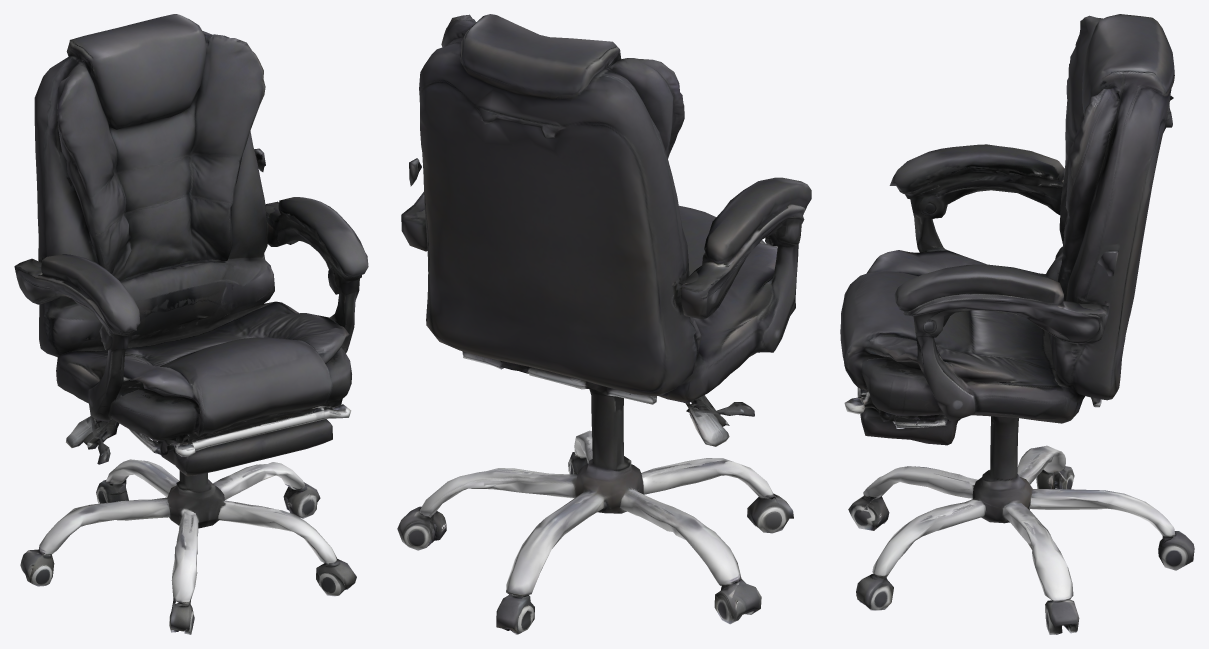
3 renders of one model, left to right at view 1: azimuth 30°, elevation 25°; view 2: azimuth 150°, elevation 25°; view 3: azimuth 270°, elevation 25°, orthographic. The views are drawn at different scales.
Parts seen in each view (by area): view 1: Mesh_0; view 2: Mesh_0; view 3: Mesh_0.
Boxes of the visible parts, x1,y1,x2,y2 form: Mesh_0: [14, 14, 368, 634]; Mesh_0: [397, 14, 811, 634]; Mesh_0: [840, 14, 1194, 634].
Size of the model in its own units: 0.7597 by 1.2 by 0.7355.
1 material, 1 textured.
